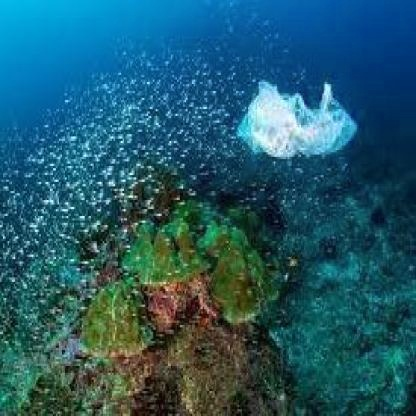pbag: (238, 77, 360, 159)
